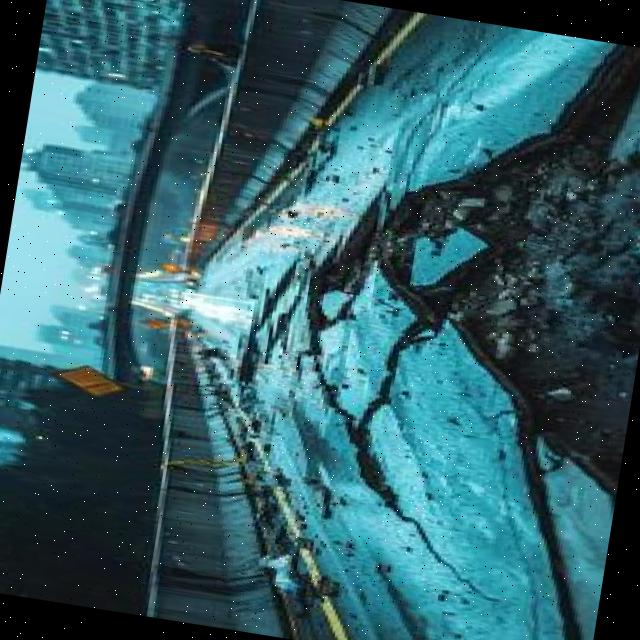road collapse: (135, 0, 640, 623)
